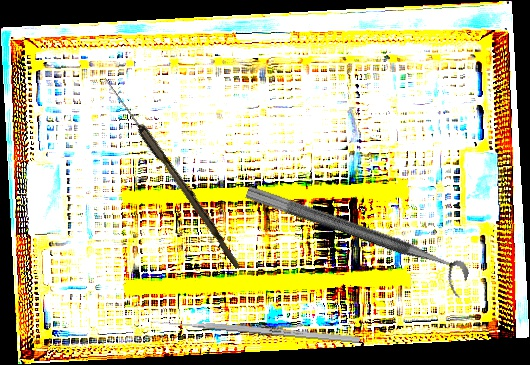Fixation Ring: (237, 183, 473, 299)
Pusher: (150, 317, 360, 344)
Surgical Spoon: (100, 75, 245, 270)
